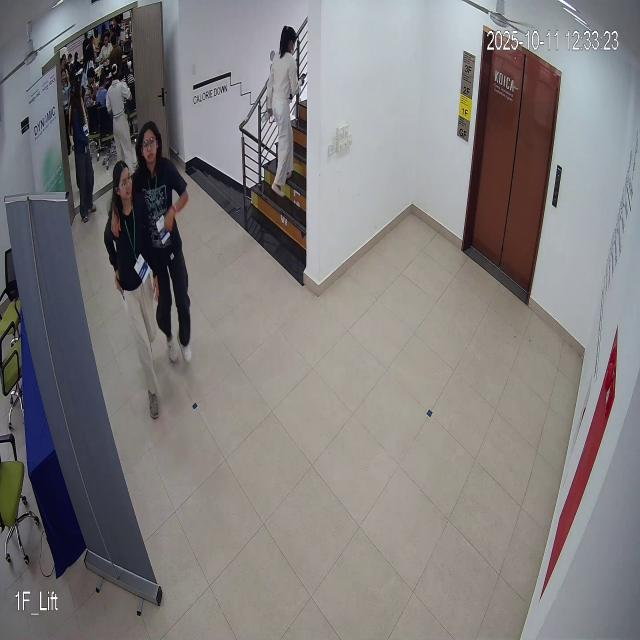face: (108, 152, 135, 204), (137, 118, 161, 176)
